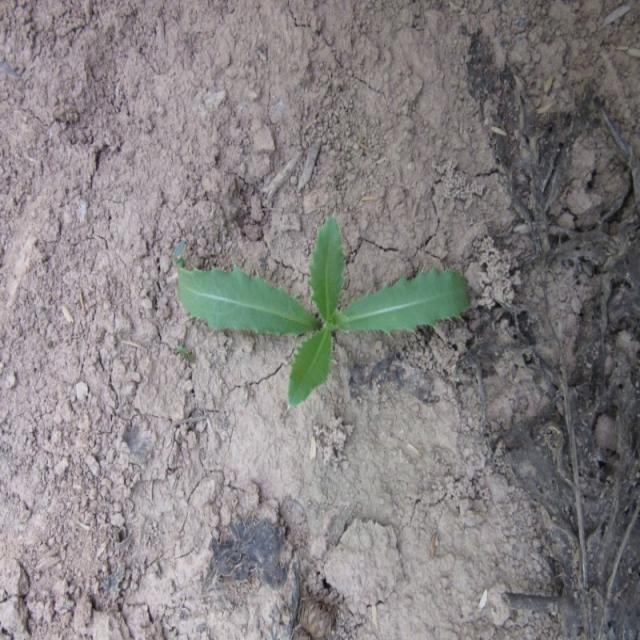cs: (168, 210, 476, 410)
